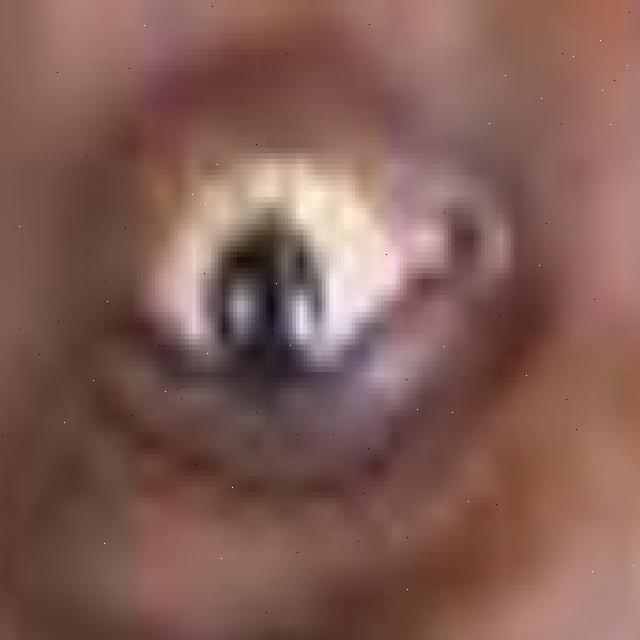Normal: (213, 216, 326, 382)
